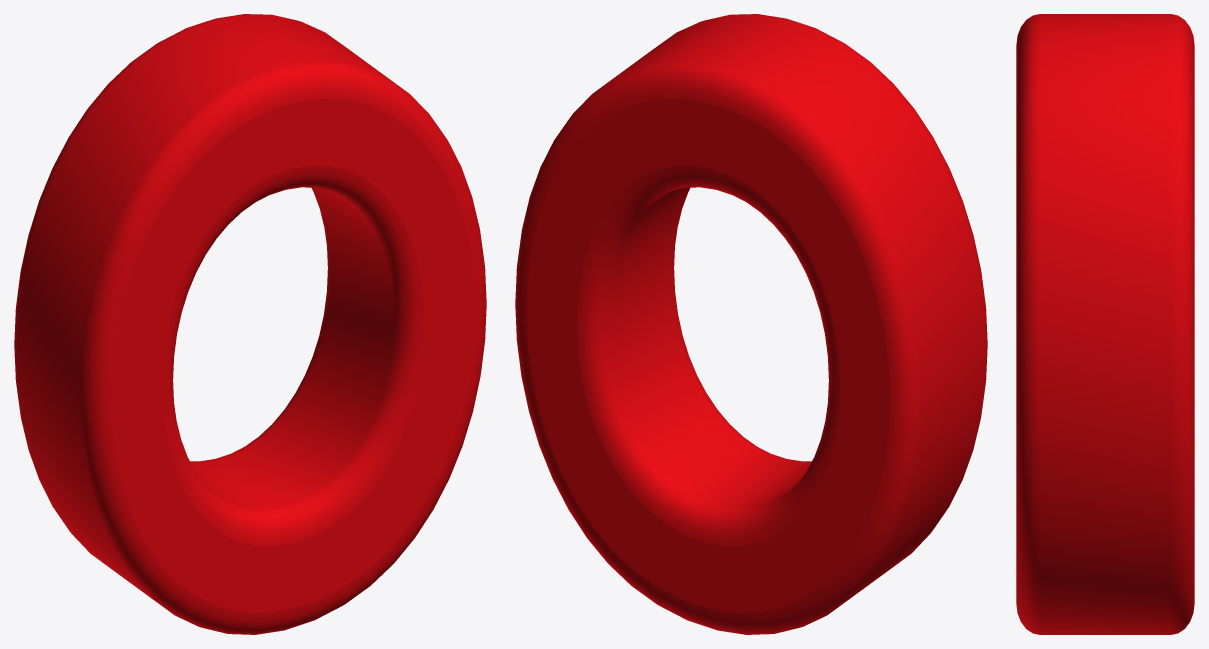
Rendered from LetterO.gltf.
3 views of the same model, side by side, from view 1: azimuth 30°, elevation 25°; view 2: azimuth 150°, elevation 25°; view 3: azimuth 270°, elevation 25° (orthographic). The views are drawn at different scales.
Visible parts, largest first — view 1: Text; view 2: Text; view 3: Text.
Part boxes in pixels (x1=…): Text: x1=14, y1=14, x2=486, y2=634; Text: x1=515, y1=14, x2=987, y2=634; Text: x1=1016, y1=14, x2=1194, y2=634.
Bounding box in the file's own units: 0.8132 × 1.08 × 0.3.
